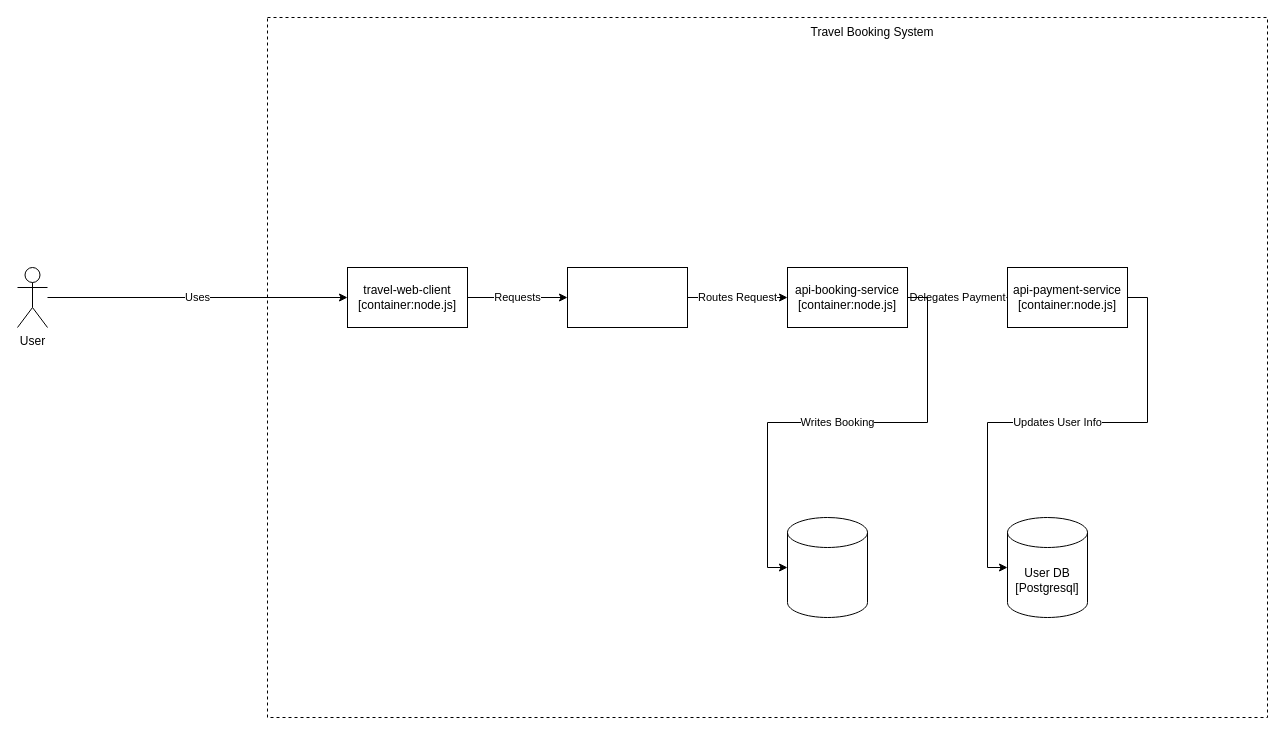
Some shapes in this 1285 by 735 pixel diagram are drawn without their labels. Each missing label, with the centre of its shape:
"api-gateway [container:node.js]" belongs at point 627,297.
"Booking DB [Postgresql]" belongs at point 827,567.
